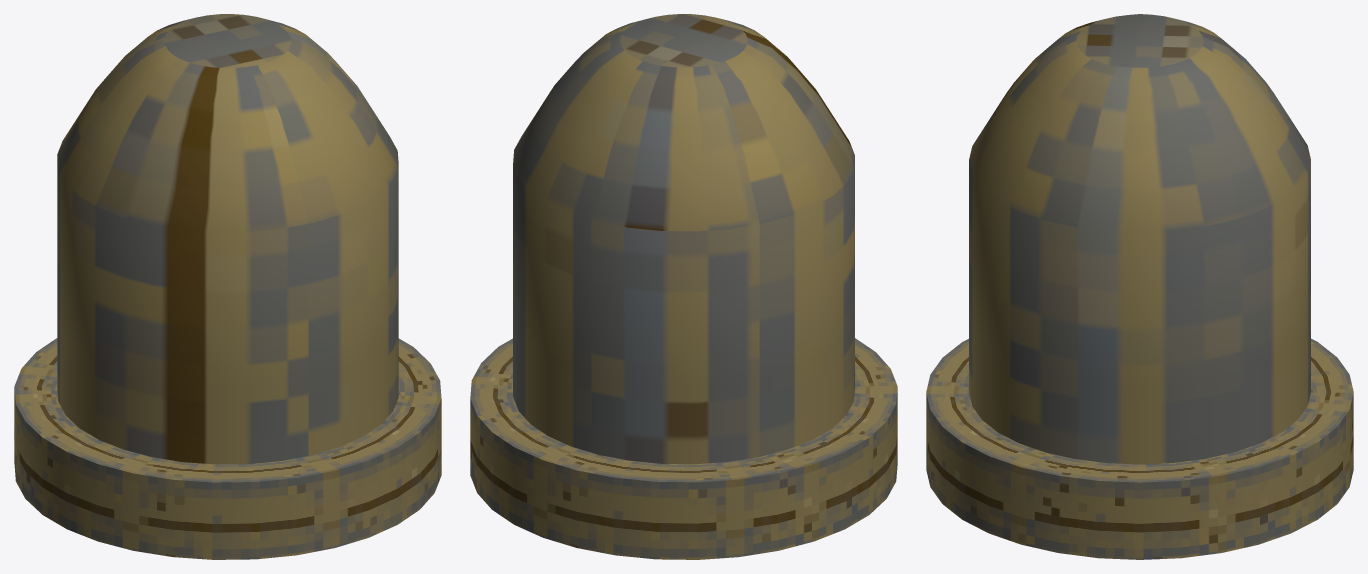
File: PIPE_CAP.fbx
3 renders of one model, left to right at view 1: azimuth 30°, elevation 25°; view 2: azimuth 150°, elevation 25°; view 3: azimuth 270°, elevation 25°, orthographic.
Visible parts, largest first — view 1: CAP.002; view 2: CAP.002; view 3: CAP.002.
Boxes of the visible parts, x1,y1,x2,y2 form: CAP.002: [14, 14, 441, 559]; CAP.002: [470, 14, 897, 559]; CAP.002: [926, 14, 1353, 559].
Size of the model in its own units: 250 by 276 by 250.
